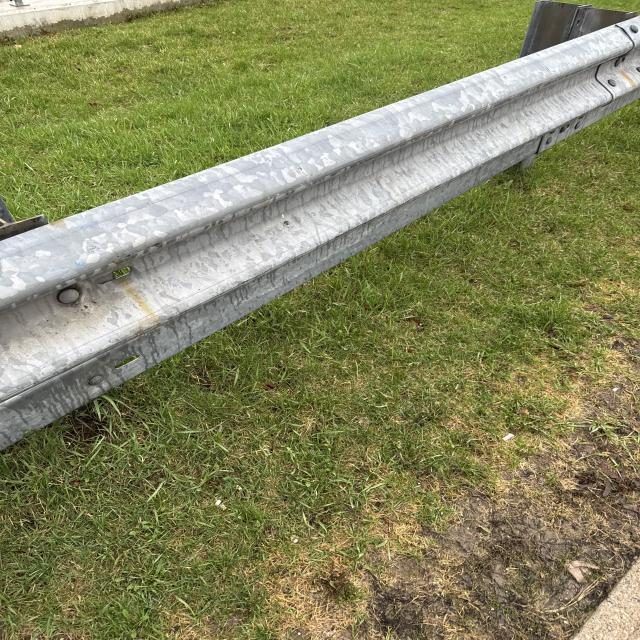Guard rail: (31, 29, 640, 420)
